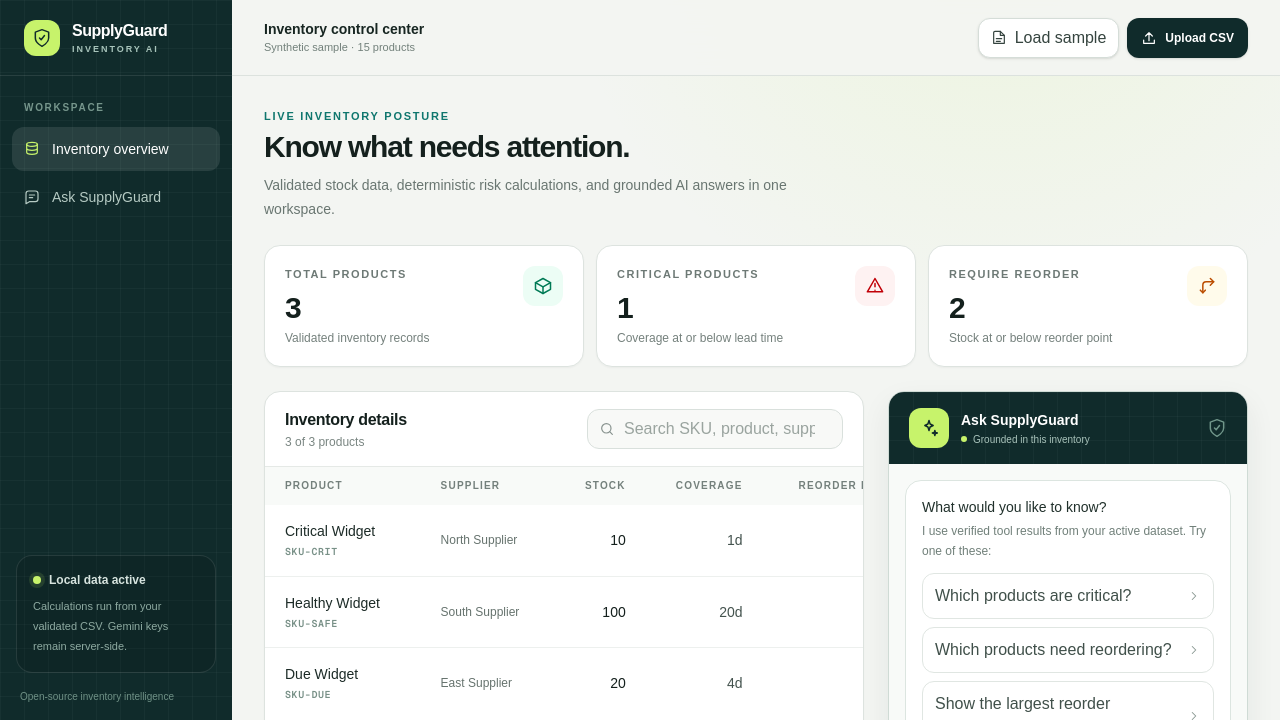
Test: InventoryDashboard › posts the active CSV and renders grounded answer, evidence, and tool details
What coordinates should you click on to do the following:
click the button "Which products are critical?"
I would click on:
 (1068, 596)
Its box is [922,573,1214,619].
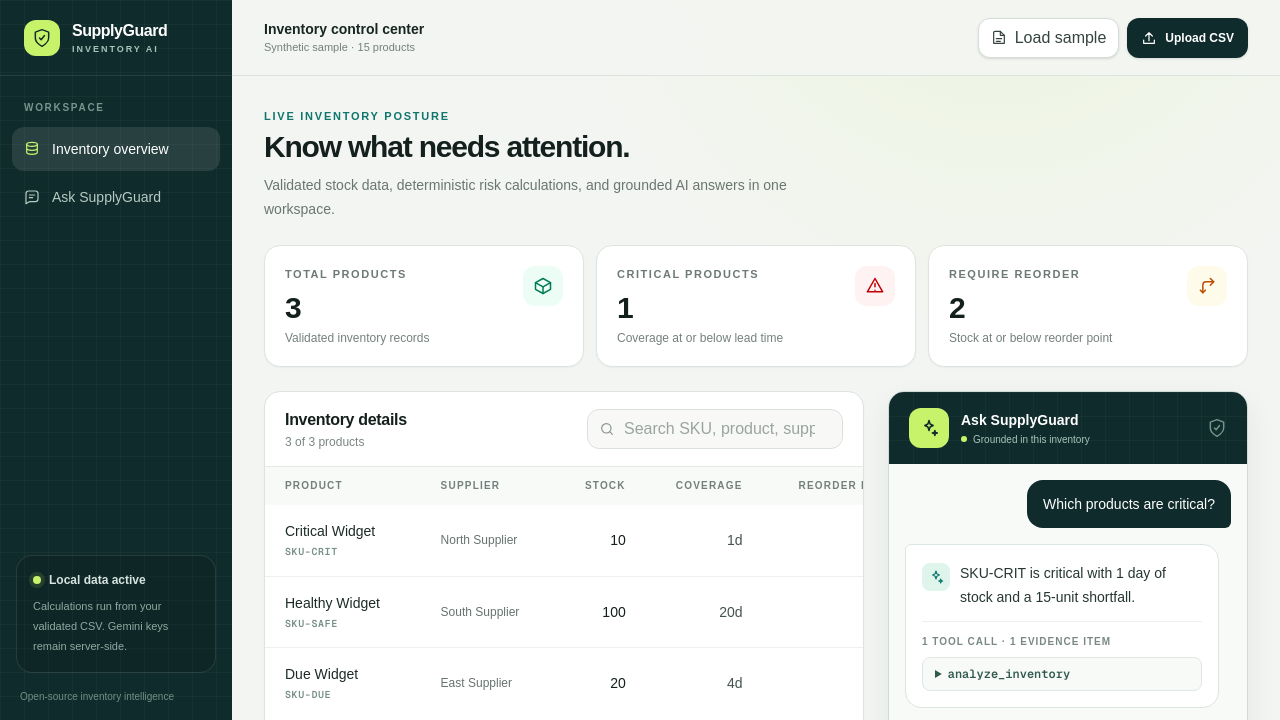
Result: the text "SKU-CRIT is critical with 1 day of stock and a 15-unit shortfall." is shown at [960,561,1202,609]
Result: the text "1 tool call · 1 evidence item" is shown at [922,636,1111,647]
Result: the heading "analyze_inventory" is shown at [948,666,1070,682]
